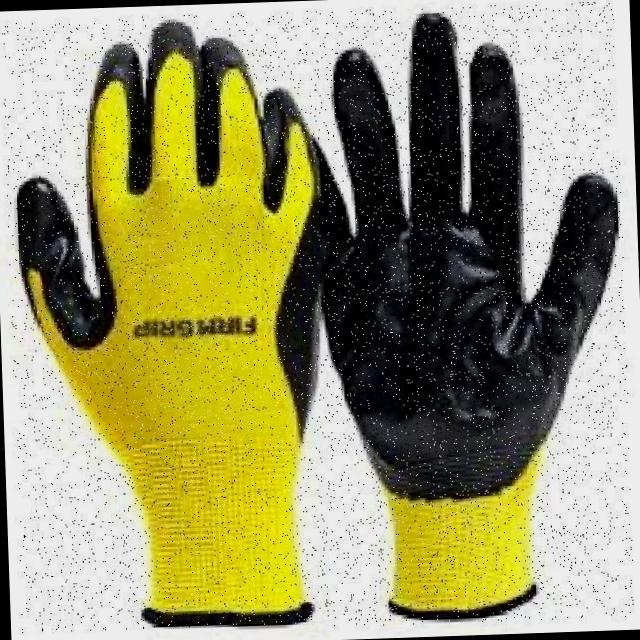gloves: (294, 6, 632, 626), (9, 1, 337, 639)
